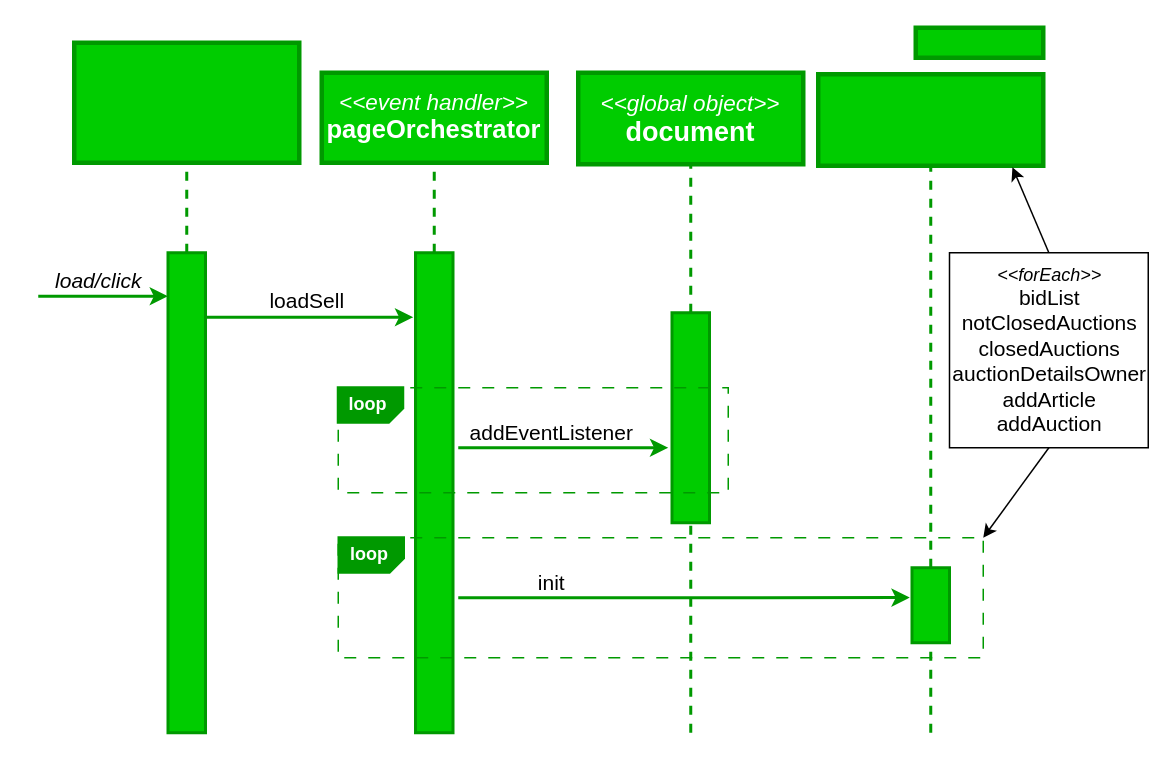
Some shapes in this 1175 by 762 pixel diagram are drawn without their labels. The box of each missing label's shape, as (x1, y1, x2, y2) in pixels:
<<a click>> home.html home.js: (71, 40, 301, 164)
<<table handler>> handler: (815, 71, 1045, 167)
client side: (913, 25, 1045, 59)
